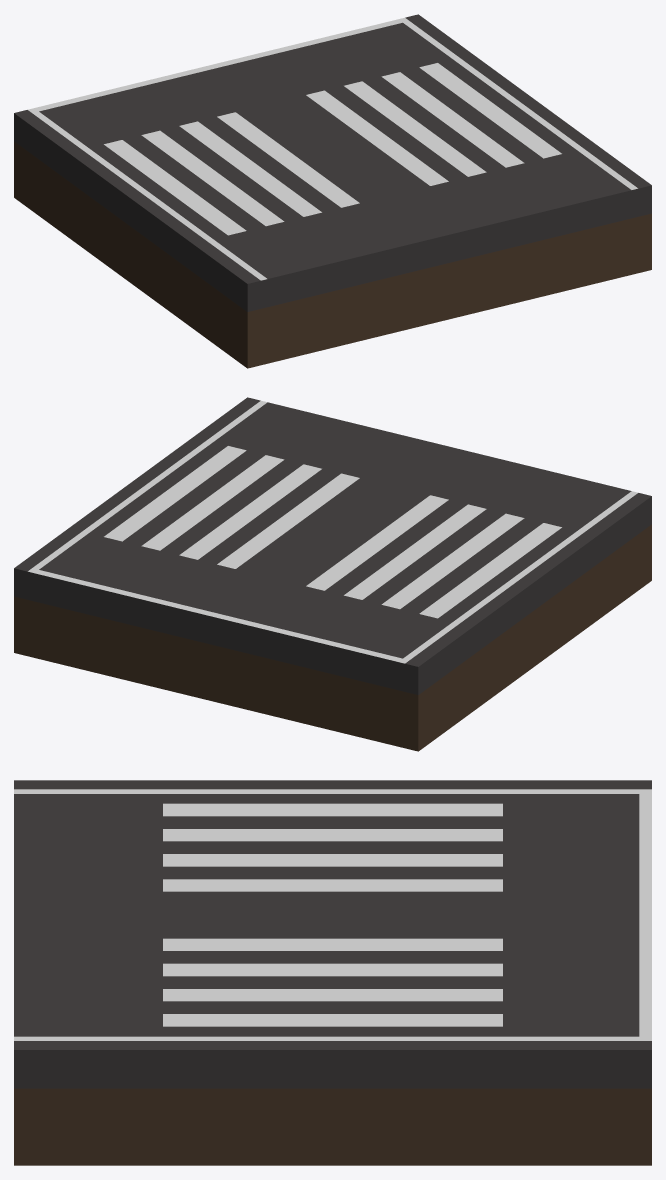
File: tiles_tile-runway-main-threshold.fbx
The picture shows the model from 3 angles, top to bottom: view 1: azimuth 30°, elevation 25°; view 2: azimuth 150°, elevation 25°; view 3: azimuth 270°, elevation 25°; orthographic projection. The views are drawn at different scales.
Visible parts, largest first — view 1: tiles_tile_runway_main_threshold; view 2: tiles_tile_runway_main_threshold; view 3: tiles_tile_runway_main_threshold.
Boxes of the visible parts, x1,y1,x2,y2 form: tiles_tile_runway_main_threshold: [14, 14, 651, 368]; tiles_tile_runway_main_threshold: [14, 397, 651, 751]; tiles_tile_runway_main_threshold: [14, 780, 651, 1165].
Size of the model in its own units: 200 by 40 by 200.
